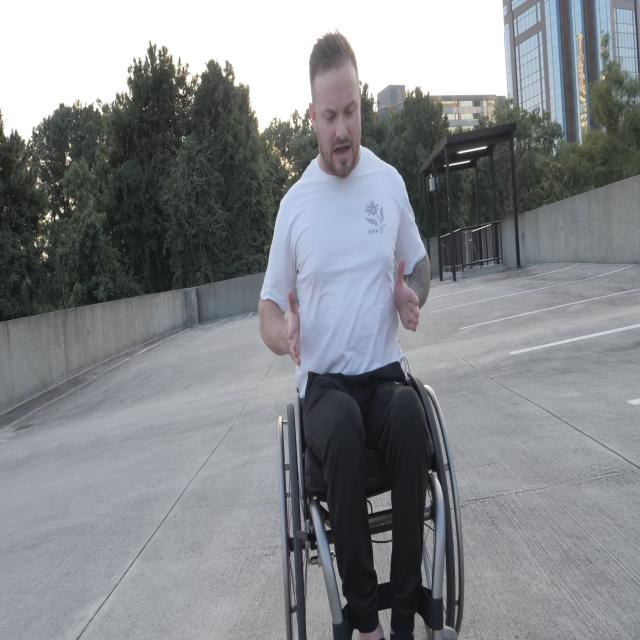wheelchairs: (276, 282, 466, 640)
